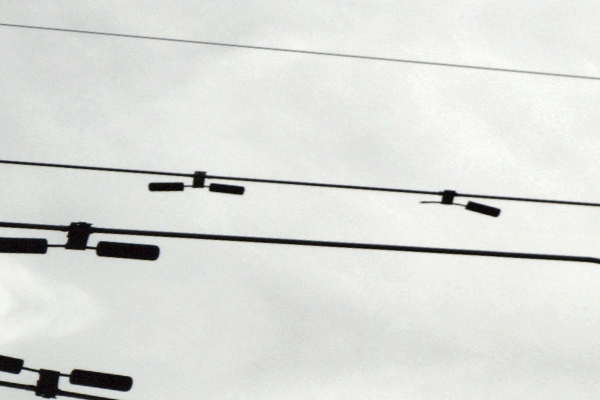damper: (1, 216, 161, 265), (146, 169, 247, 198)
damper_defect: (414, 187, 503, 220)
